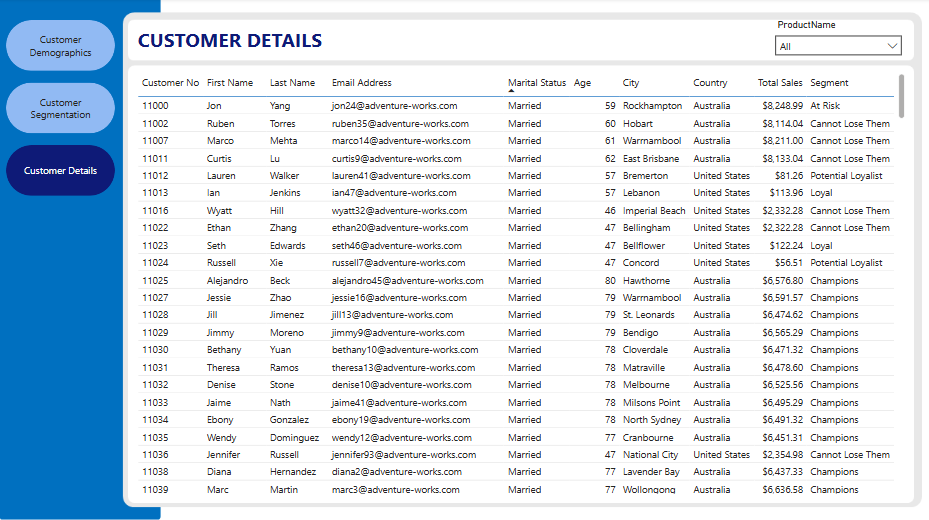

What the dashboard file says about the page in this screenshot:
{"tool":"powerbi","page":{"name":"Customer Details","canvas":[1280,720],"ordinal":2},"visuals":[{"type":"textbox","box":[184.4,33.4,594.4,58.8],"z":0},{"type":"tableEx","fields":{"Values":["DimCustomer.CustomerKey","DimCustomer.FirstName","DimCustomer.LastName","DimCustomer.EmailAddress","DimCustomer.MaritalStatus","Sum(DimCustomer.Age)","DimGeography.City","DimGeography.Country","Sum(FactInternetSales.SalesAmount)","Segment Table.Segment"]},"box":[184.4,98.5,1066.5,588.1],"z":1000},{"type":"slicer","fields":{"Values":["DimProduct.ProductName"]},"box":[1057,25.4,193.9,68.3],"z":2000},{"type":"pageNavigator","box":[7.9,30.2,151,244.8],"z":2001}]}

Visuals, with their boxes in screenshot pixels (x1, y1, x2, y2), scaled from the page's 1280x720 canvas onto the 929x520 screenshot:
textbox: left=134, top=24, right=565, bottom=67
tableEx - DimCustomer.CustomerKey x DimCustomer.FirstName: left=134, top=71, right=908, bottom=496
slicer - DimProduct.ProductName: left=767, top=18, right=908, bottom=68
pageNavigator: left=6, top=22, right=115, bottom=199
